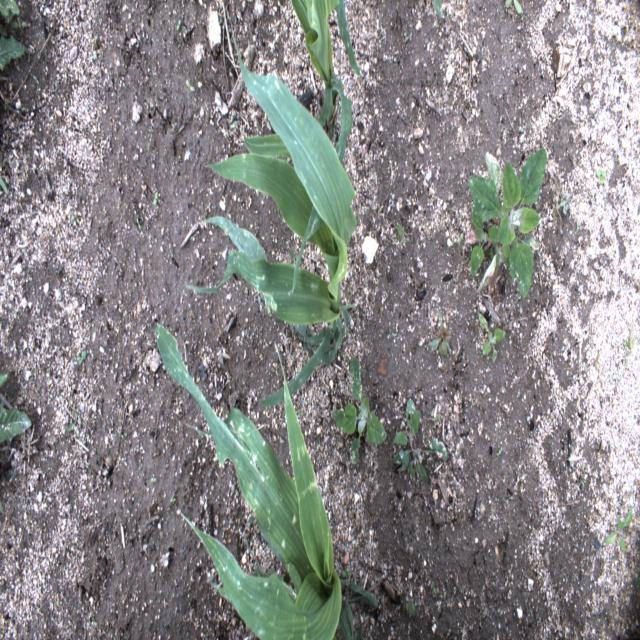crop: (156, 323, 379, 639), (185, 12, 357, 408), (244, 0, 362, 297)
weed: (468, 146, 546, 298), (331, 356, 387, 465), (392, 397, 448, 483), (0, 371, 32, 445), (0, 0, 25, 74), (612, 323, 638, 379), (604, 505, 632, 555), (478, 312, 506, 362), (430, 309, 451, 355), (504, 0, 524, 15), (433, 0, 443, 21), (597, 169, 606, 185)
